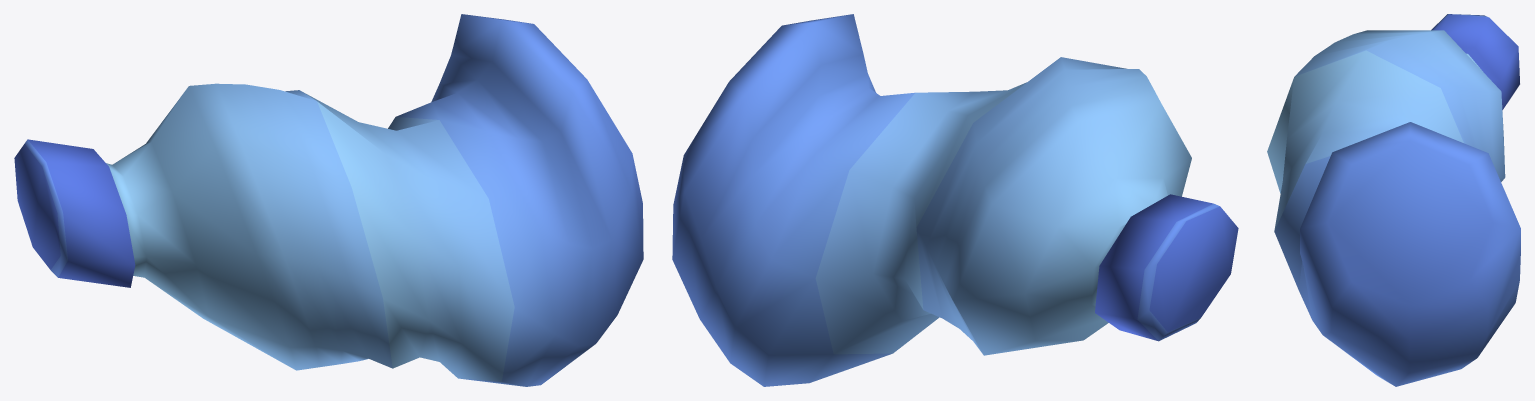
Rendered from plastic_waste.glb.
3 renders of one model, left to right at view 1: azimuth 30°, elevation 25°; view 2: azimuth 150°, elevation 25°; view 3: azimuth 270°, elevation 25°, orthographic. The views are drawn at different scales.
Visible parts, largest first — view 1: 1051; view 2: 1051; view 3: 1051.
Part boxes in pixels (x1=…): 1051: x1=14, y1=14, x2=643, y2=386; 1051: x1=672, y1=14, x2=1238, y2=386; 1051: x1=1267, y1=14, x2=1520, y2=386.
Size of the model in its own units: 1.62 by 1.01 by 0.919.
1 material, 1 textured.
